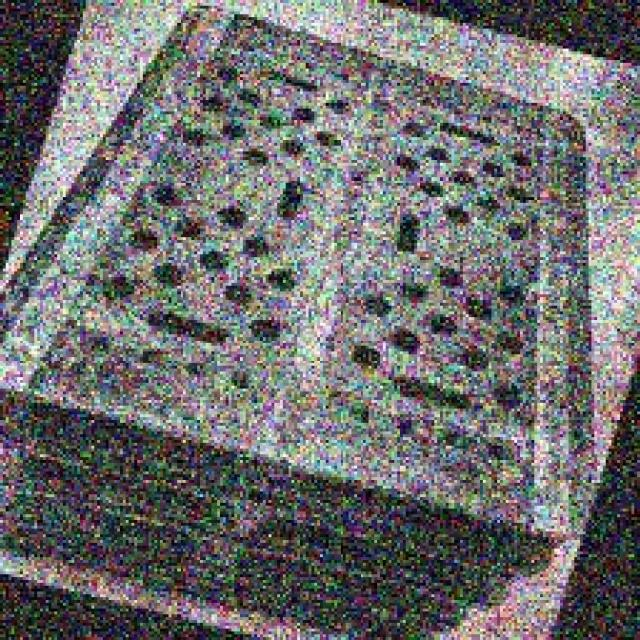igps: (0, 0, 606, 589)
